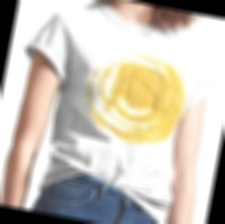mustard: (100, 92, 181, 147), (116, 67, 176, 114), (86, 61, 123, 130), (136, 56, 186, 104)
